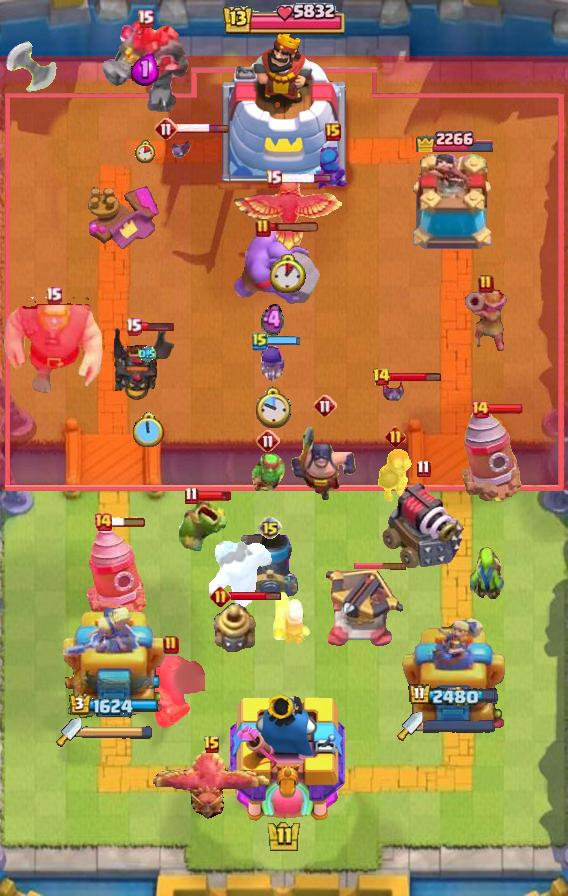archer-evolution: (114, 324, 180, 402)
archer-queen: (228, 227, 324, 307)
balloon: (2, 297, 104, 395)
bar: (60, 607, 168, 731), (402, 615, 507, 731)
barbarian-barrel: (380, 379, 406, 405), (169, 134, 193, 160)
bomb-tower: (465, 283, 507, 353)
cannoneer-tower: (100, 20, 190, 114)
clock: (221, 0, 347, 40)
electro-spirit: (131, 54, 159, 86), (260, 303, 283, 337), (138, 346, 156, 362)
elixir: (253, 386, 290, 430), (270, 255, 306, 294), (131, 412, 164, 450), (135, 140, 155, 164)
emote: (389, 372, 442, 384), (176, 122, 230, 133), (279, 173, 332, 184), (229, 591, 282, 602), (269, 222, 321, 233), (354, 561, 408, 570), (140, 320, 176, 332), (488, 403, 524, 415), (196, 490, 232, 502), (111, 516, 147, 528), (266, 334, 302, 345)
flying-machine: (179, 499, 227, 551)
giant-snowball: (248, 451, 288, 491)
goblin: (257, 345, 287, 383)
goblin-drill: (212, 600, 258, 652)
golden-knight: (233, 178, 343, 254)
golem: (380, 480, 466, 572)
ice-golem: (377, 449, 413, 503)
king-tower: (222, 31, 346, 181), (223, 689, 345, 826)
king-tower-bar: (423, 719, 495, 733), (82, 725, 154, 739)
lava-pup: (321, 570, 403, 650)
magic-archer: (462, 408, 522, 502), (87, 527, 147, 621)
monk: (290, 422, 360, 502)
mother-witch: (153, 747, 271, 821)
musketeer: (240, 534, 300, 598)
queen-tower: (405, 154, 501, 256)
rage: (209, 537, 273, 607)
royal-giant: (0, 41, 58, 103)
royal-giant-evolution: (137, 656, 205, 730)
selected: (409, 684, 500, 709), (414, 125, 495, 152), (69, 692, 159, 715)
text: (154, 117, 178, 141), (313, 394, 337, 418), (256, 429, 280, 453), (258, 516, 282, 540), (385, 425, 406, 447), (209, 586, 231, 607), (470, 399, 490, 419), (93, 512, 113, 532), (372, 367, 391, 387), (203, 735, 221, 755), (137, 8, 154, 27), (265, 169, 282, 188), (125, 316, 142, 335), (255, 218, 271, 238), (478, 274, 494, 294), (252, 331, 268, 351), (163, 635, 179, 655), (45, 287, 62, 305), (325, 123, 341, 141), (417, 458, 431, 477), (185, 486, 199, 505)
tombstone: (271, 589, 313, 647)
witch: (315, 142, 351, 194)
zap: (470, 546, 508, 604)
